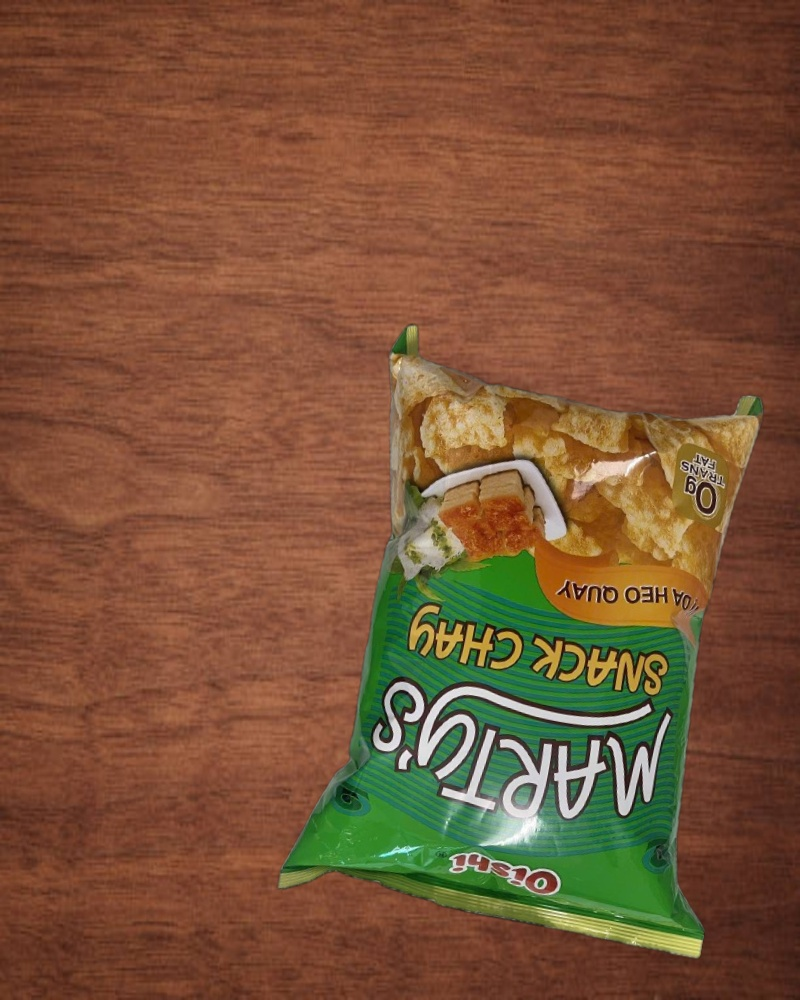Snack chay: (297, 324, 799, 964)
